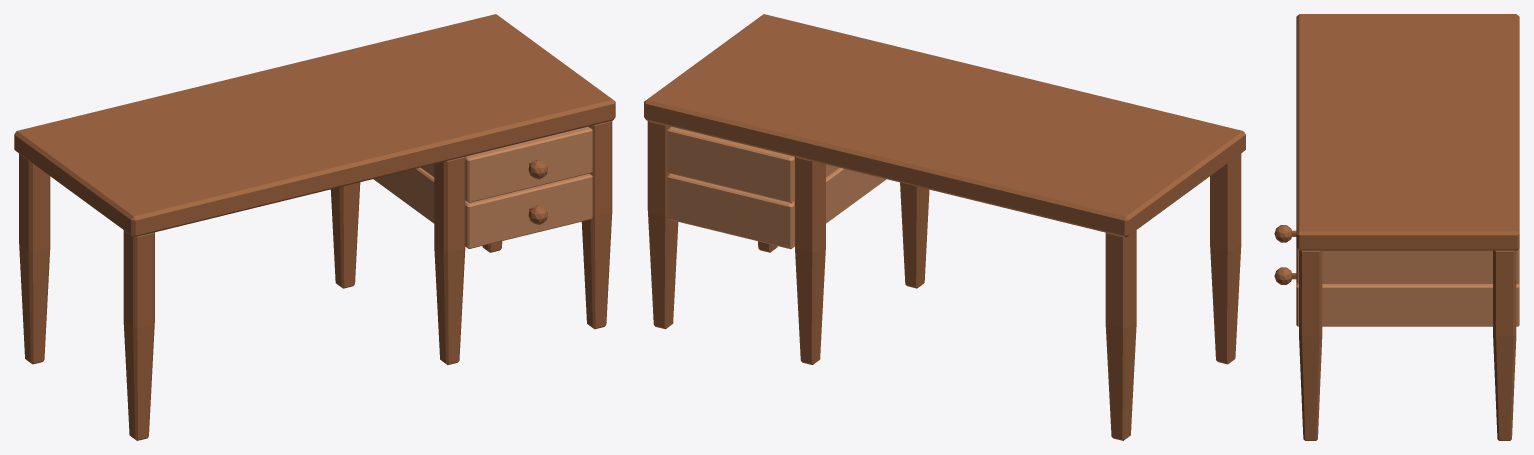
3 renders of one model, left to right at view 1: azimuth 30°, elevation 25°; view 2: azimuth 150°, elevation 25°; view 3: azimuth 270°, elevation 25°, orthographic. The views are drawn at different scales.
Parts seen in each view (by area): view 1: Desk, Desk.002, Desk.001; view 2: Desk, Desk.002, Desk.001; view 3: Desk, Desk.002, Desk.001.
Part boxes in pixels (x1,y1,x2,y2): Desk: (14,14,615,440); Desk.002: (373,167,592,248); Desk.001: (420,126,592,202); Desk: (644,14,1245,440); Desk.002: (667,167,886,249); Desk.001: (667,126,838,202); Desk: (1296,14,1519,440); Desk.002: (1274,267,1519,326); Desk.001: (1274,225,1519,283).
Size of the model in its own units: 9.49 by 4.27 by 4.47.
